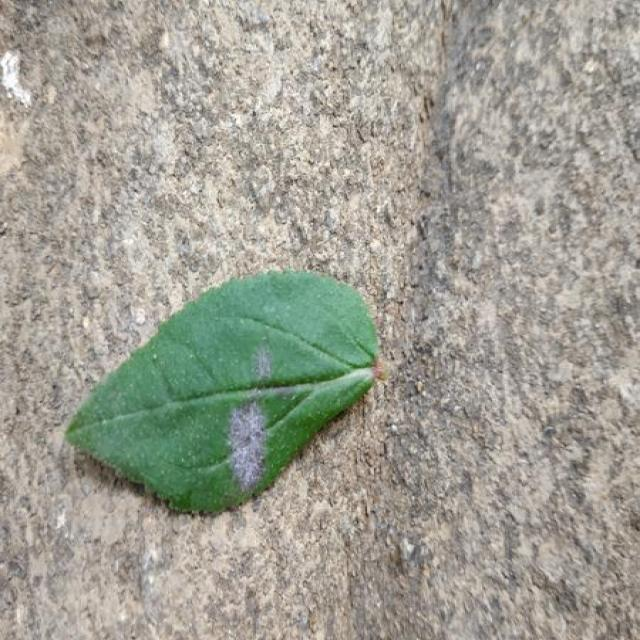Astma_weed: (68, 272, 378, 511)
